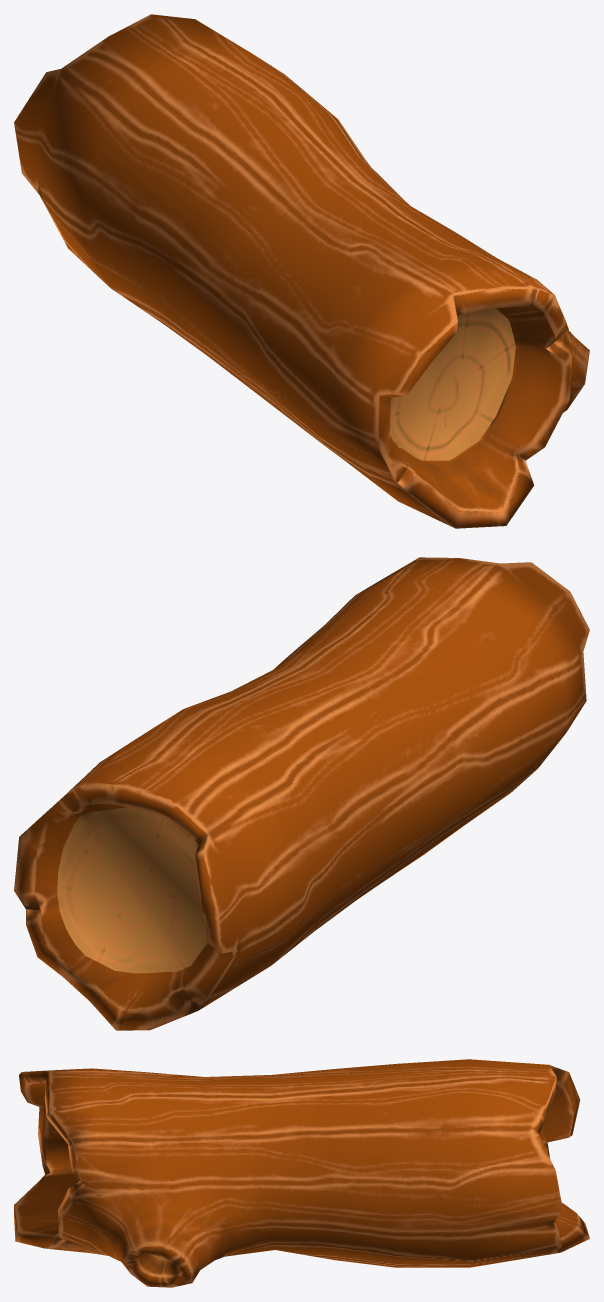
The model's file is R03_Firewood.fbx.
3 renders of one model, top to bottom at view 1: azimuth 30°, elevation 25°; view 2: azimuth 150°, elevation 25°; view 3: azimuth 270°, elevation 25°, orthographic. The views are drawn at different scales.
Visible parts, largest first — view 1: firewood; view 2: firewood; view 3: firewood.
Part boxes in pixels (x1=…): firewood: x1=14, y1=14, x2=589, y2=528; firewood: x1=14, y1=557, x2=589, y2=1030; firewood: x1=14, y1=1059, x2=589, y2=1287.
Size of the model in its own units: 12.65 by 10.3 by 29.69.
